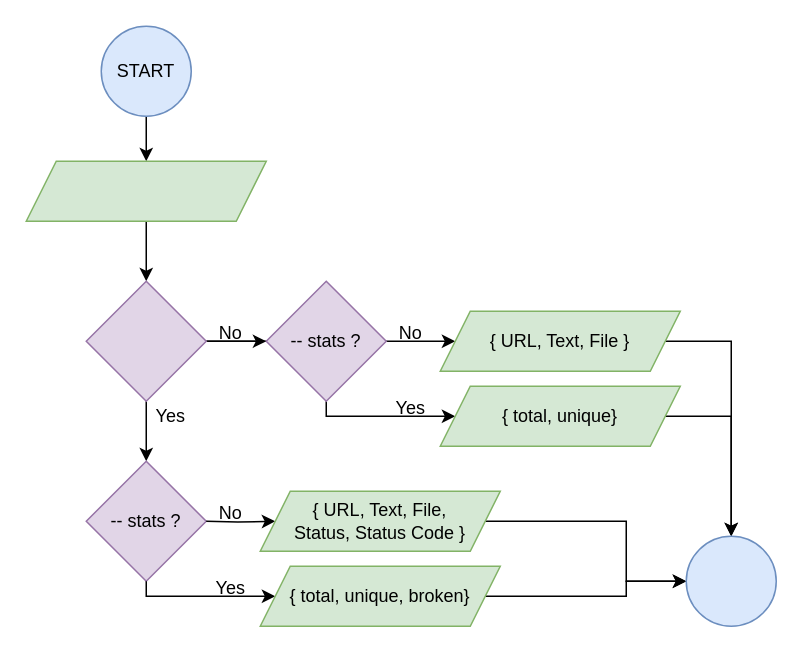
Image size: 803x653. Some labels were removed from this diagram. The shapes that lost their labels are listed below. From the top down, each one's centre as x and y in pixels, then its label:
the point at 145,190: md-links <path> [options]
the point at 145,340: -- validate ?
the point at 730,580: END
